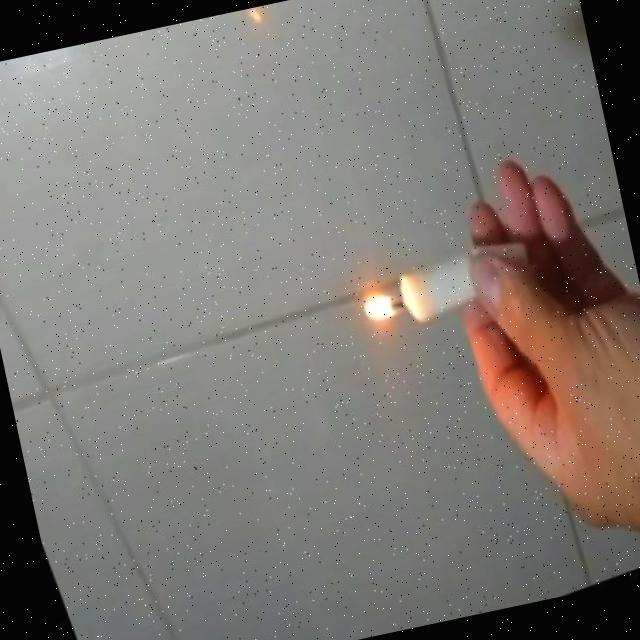fire: (356, 286, 412, 337)
